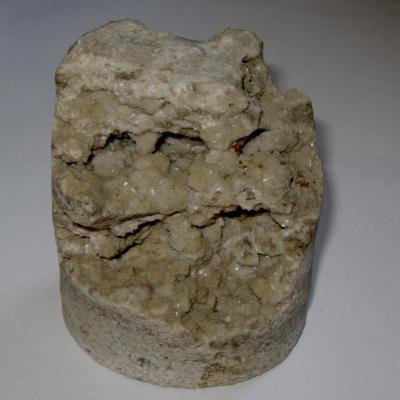mineralogy: (52, 20, 323, 388)
